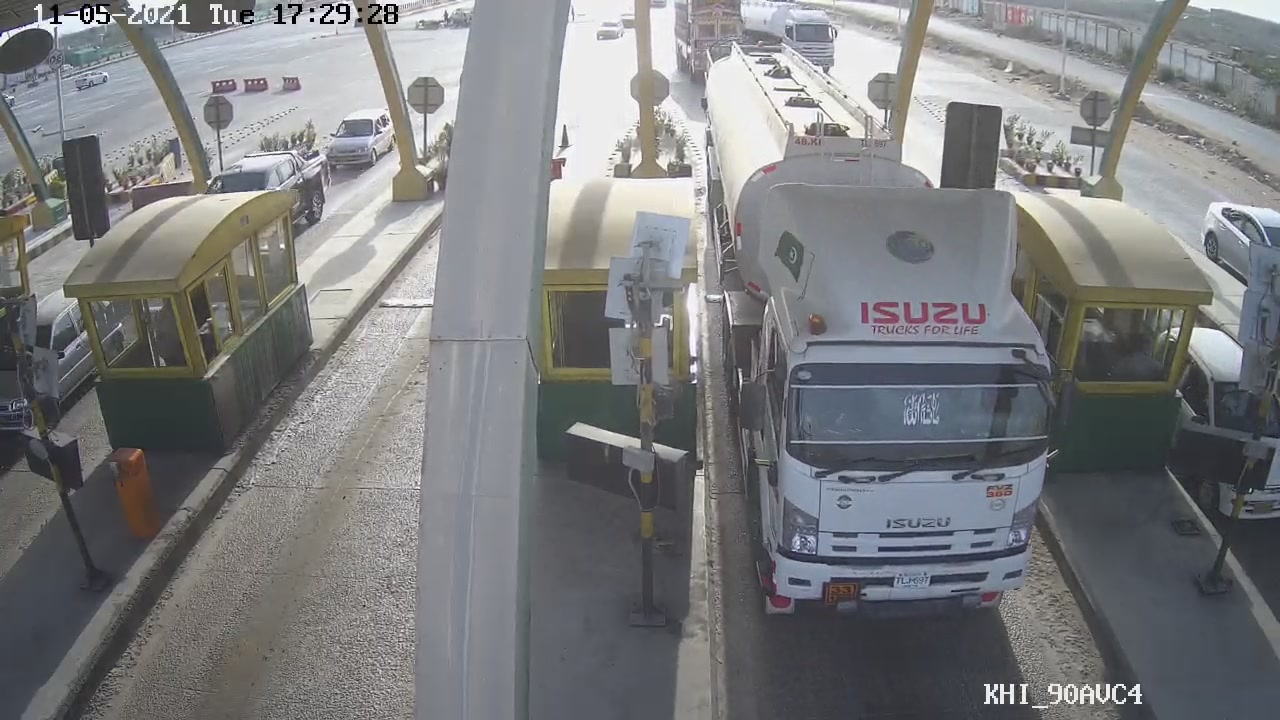F6: (730, 44, 1057, 622)
